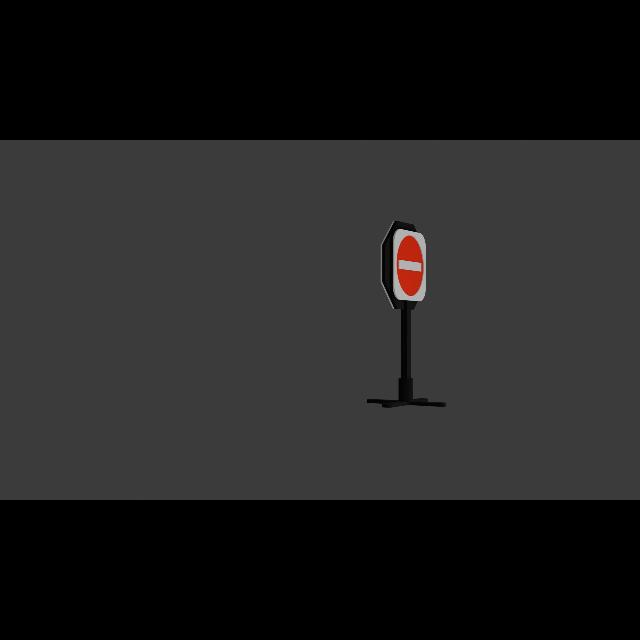sign_noentry: (396, 233, 427, 300)
